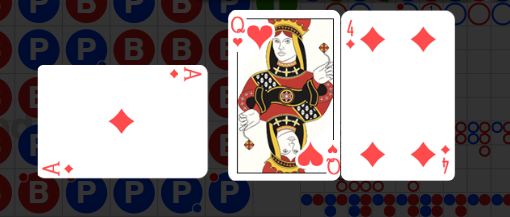4D: (345, 19, 356, 51)
AD: (167, 67, 202, 84), (42, 159, 76, 176)
